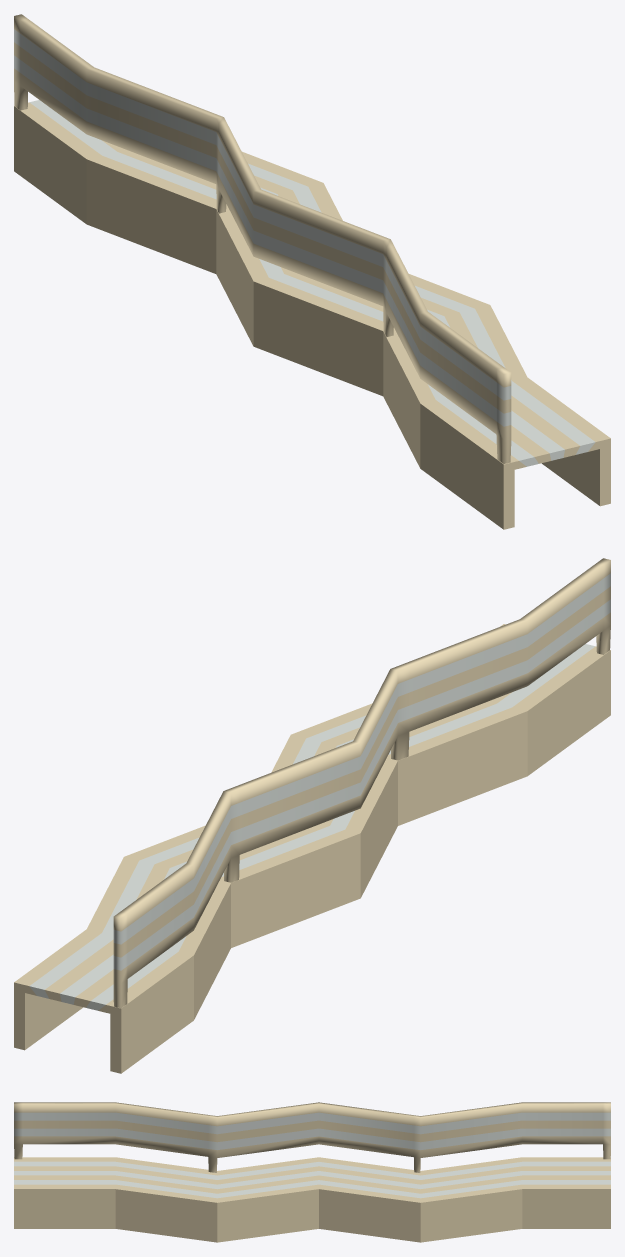
The model's file is Banc.fbx.
3 views of the same model, one above another, from view 1: azimuth 30°, elevation 25°; view 2: azimuth 150°, elevation 25°; view 3: azimuth 270°, elevation 25° (orthographic). The views are drawn at different scales.
Visible parts, largest first — view 1: Banc; view 2: Banc; view 3: Banc.
Boxes of the visible parts, x1,y1,x2,y2 form: Banc: [14, 14, 610, 529]; Banc: [14, 558, 610, 1073]; Banc: [14, 1102, 610, 1242].
Size of the model in its own units: 770 by 135 by 139.
